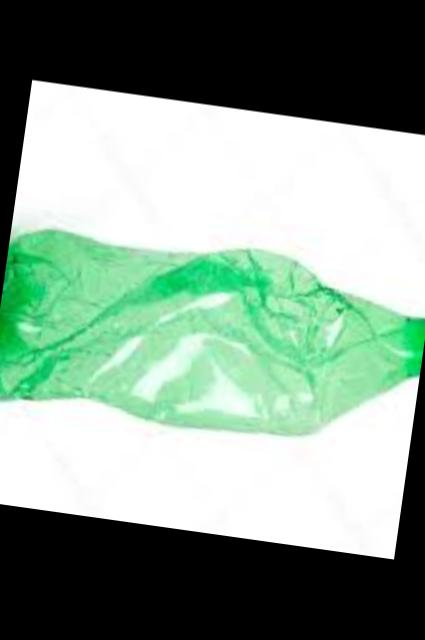plastic: (0, 228, 425, 431)
